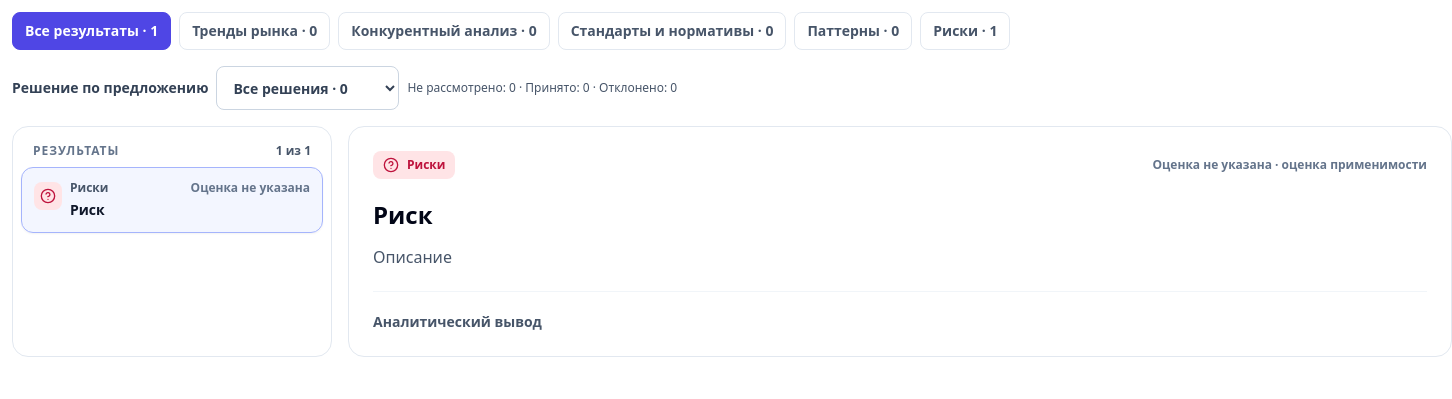
Scenario: all research directions remain visible when a historical run has no results for a category
Click the button "Конкурентный анализ · 0" at (444, 31), box [338, 12, 550, 50]
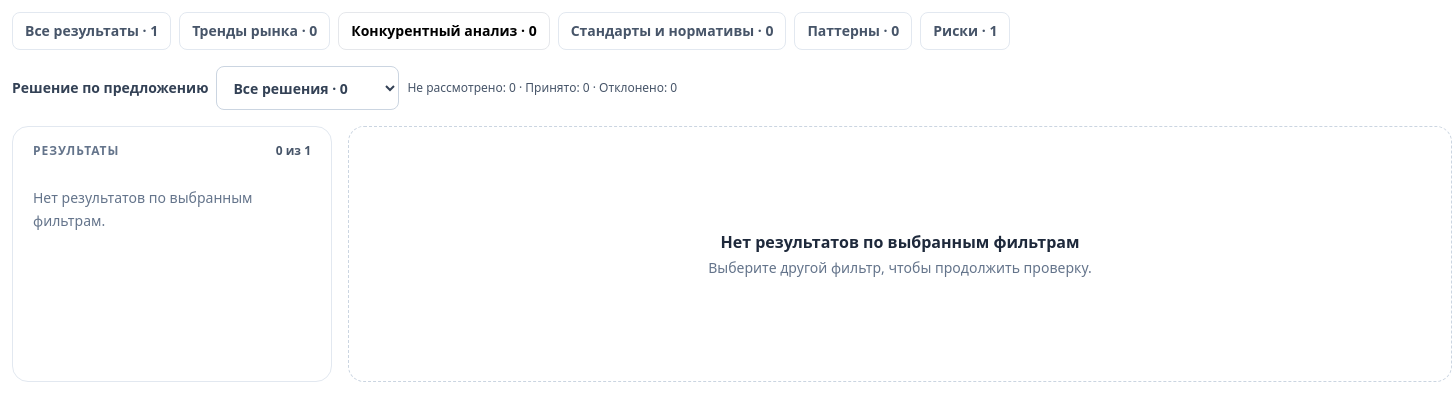
Expected: the element named "Пустой результат фильтра" is shown, [348, 126, 1451, 382]
